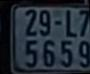-: (54, 20, 62, 26)
2: (24, 8, 38, 37)
5: (25, 40, 38, 68), (60, 41, 74, 67)
6: (42, 40, 55, 68)
7: (79, 9, 90, 37)
9: (39, 10, 52, 37), (78, 41, 90, 68)
L: (66, 10, 77, 37)
